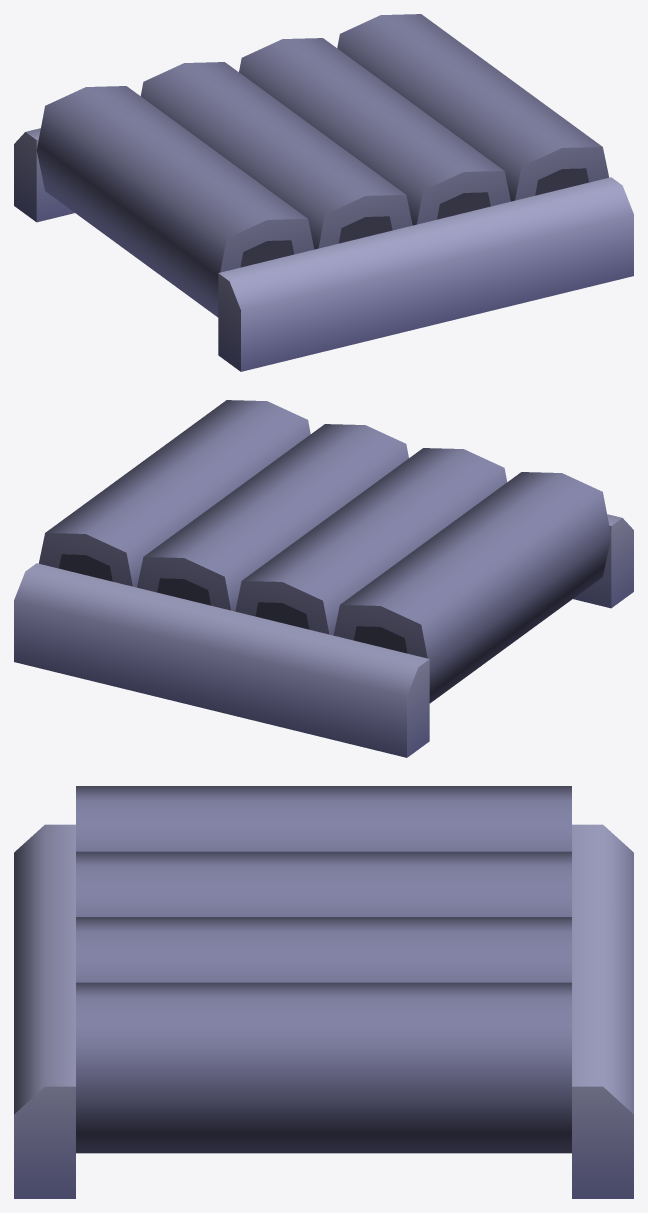
The model's file is conveyor-bars-sides.fbx.
3 renders of one model, top to bottom at view 1: azimuth 30°, elevation 25°; view 2: azimuth 150°, elevation 25°; view 3: azimuth 270°, elevation 25°, orthographic. The views are drawn at different scales.
Parts seen in each view (by area): view 1: conveyor-bars-sides; view 2: conveyor-bars-sides; view 3: conveyor-bars-sides.
Boxes of the visible parts, <box> form: conveyor-bars-sides: <box>14,14,633,371</box>; conveyor-bars-sides: <box>14,400,633,757</box>; conveyor-bars-sides: <box>14,786,633,1198</box>.
Size of the model in its own units: 100 by 30 by 100.
1 material, 1 textured.
